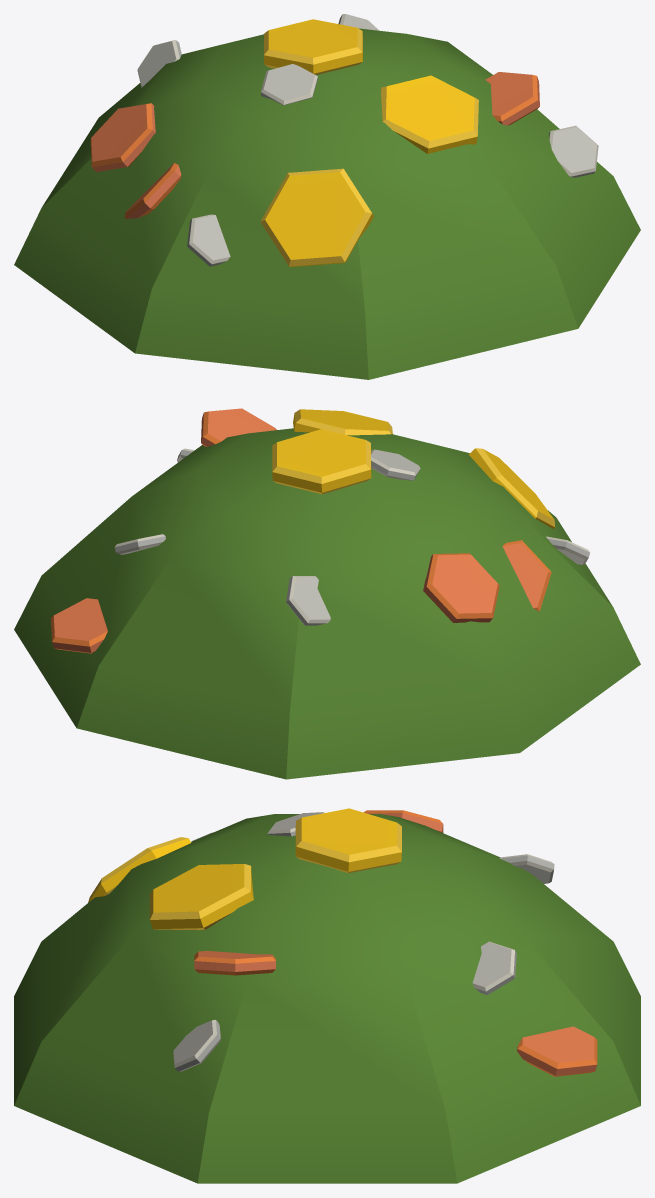
File: MoneyLow_Mesh.fbx
The picture shows the model from 3 angles, top to bottom: view 1: azimuth 30°, elevation 25°; view 2: azimuth 150°, elevation 25°; view 3: azimuth 270°, elevation 25°; orthographic projection. The views are drawn at different scales.
Parts seen in each view (by area): view 1: MoneyLow_Mesh; view 2: MoneyLow_Mesh; view 3: MoneyLow_Mesh.
Part boxes in pixels (bbox=[...]): MoneyLow_Mesh: bbox=[14, 14, 640, 379]; MoneyLow_Mesh: bbox=[14, 408, 640, 779]; MoneyLow_Mesh: bbox=[14, 808, 640, 1183].
Bounding box in the file's own units: 15.59 × 6.03 × 15.59.
1 material, 1 textured.
